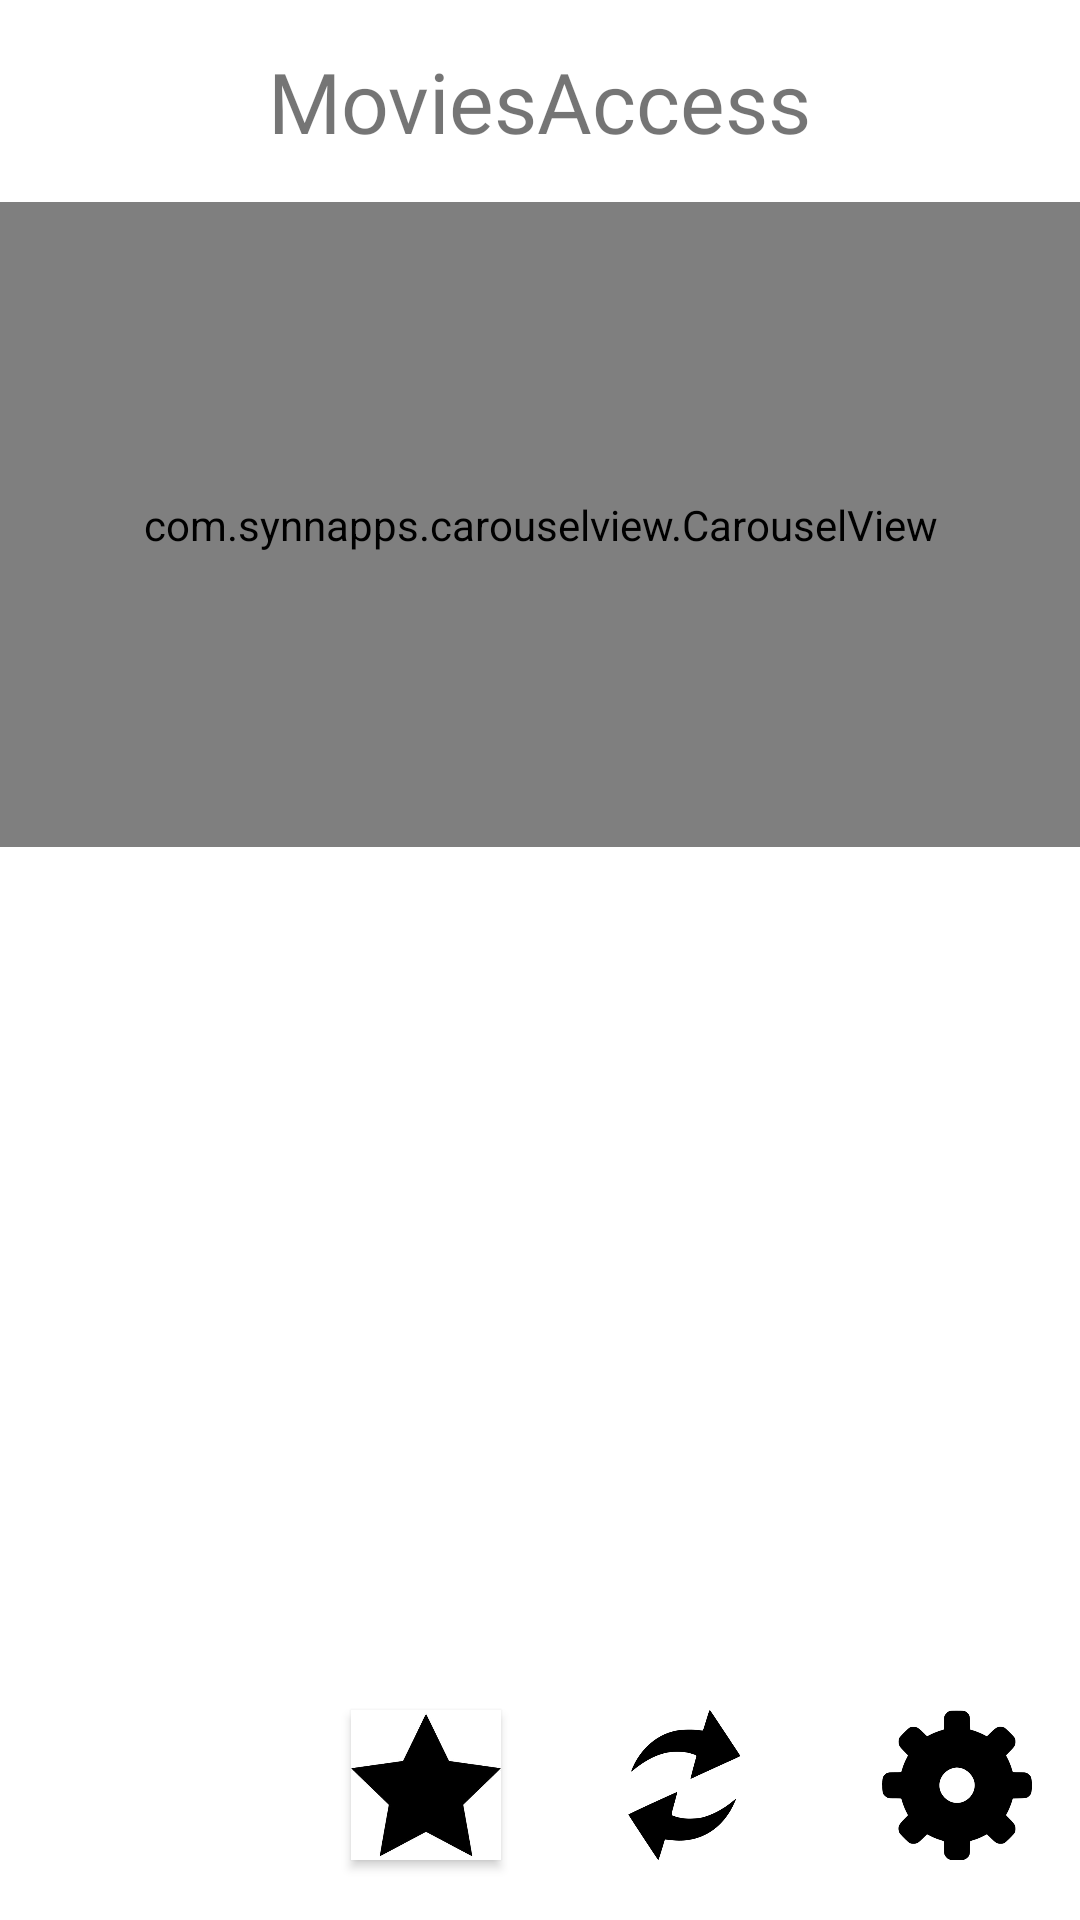

Named icons in this screenshot (1080 x 1920) and their bounding boxes, (x1, y1, x2, y2):
popular: (351, 1714, 501, 1856)
settings: (882, 1710, 1032, 1860)
update: (628, 1710, 740, 1860)
